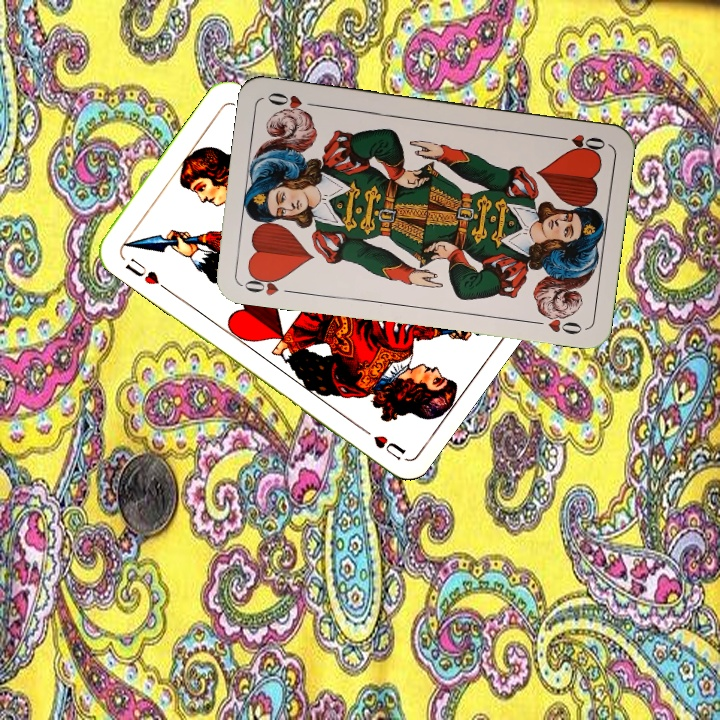HO: (238, 269, 297, 298), (550, 130, 608, 154)
HU: (121, 253, 169, 292)
